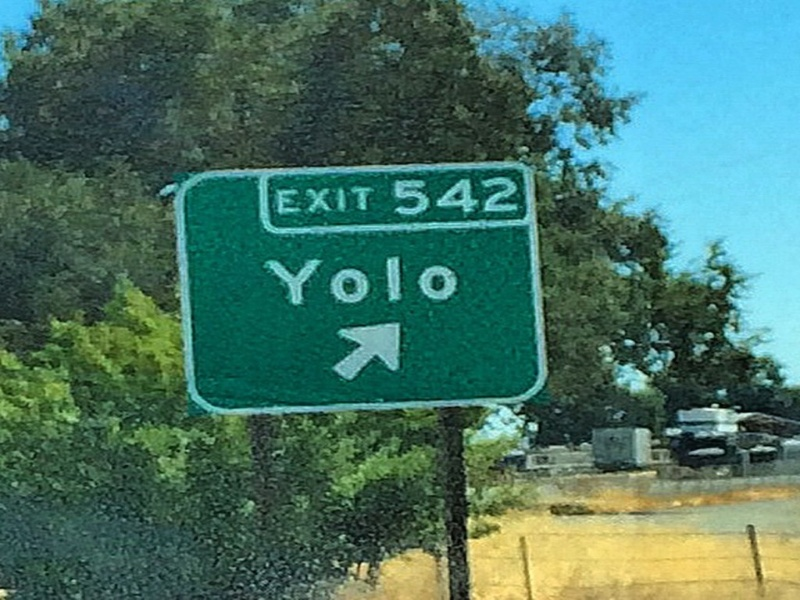exit: (229, 169, 532, 252)
